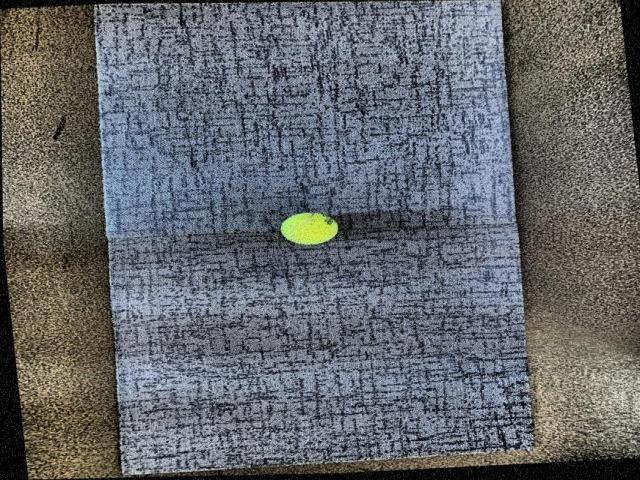tennis-ball: (280, 212, 339, 245)
